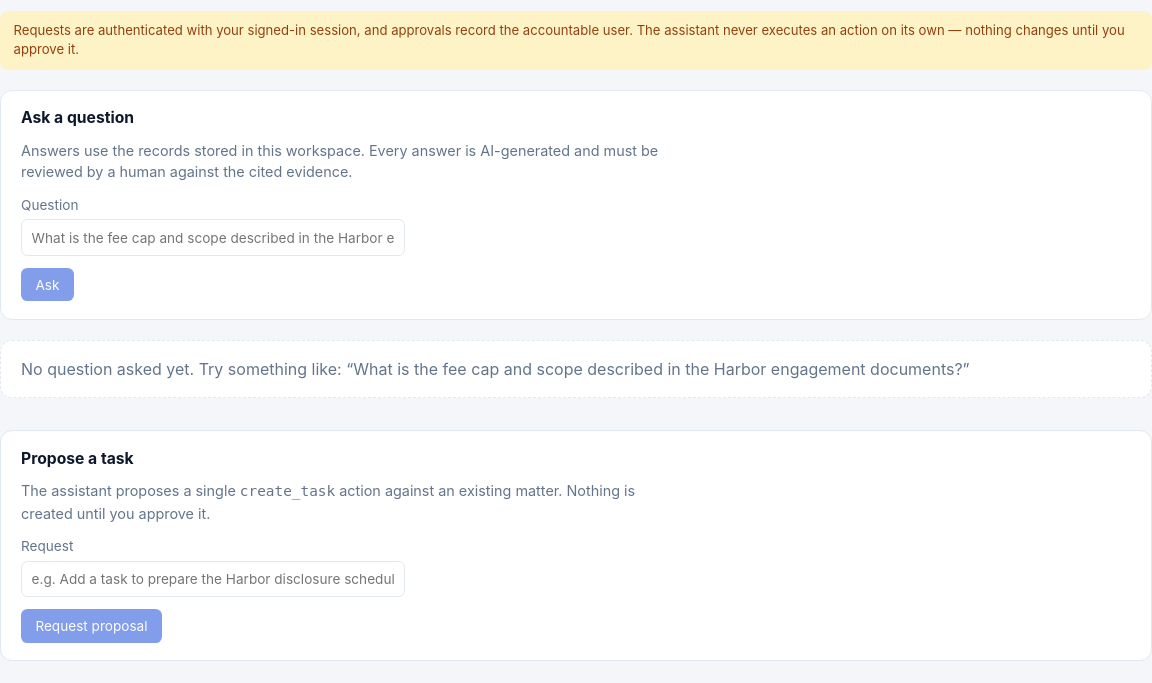
Test: AssistantPage › renders a rejection success
This screenshot has width=1152, height=683.
Step 1. Type "Add a task for Harbor" into the field labelled "Request" → coordinates (213, 579), box x1=21 y1=561 x2=405 y2=598
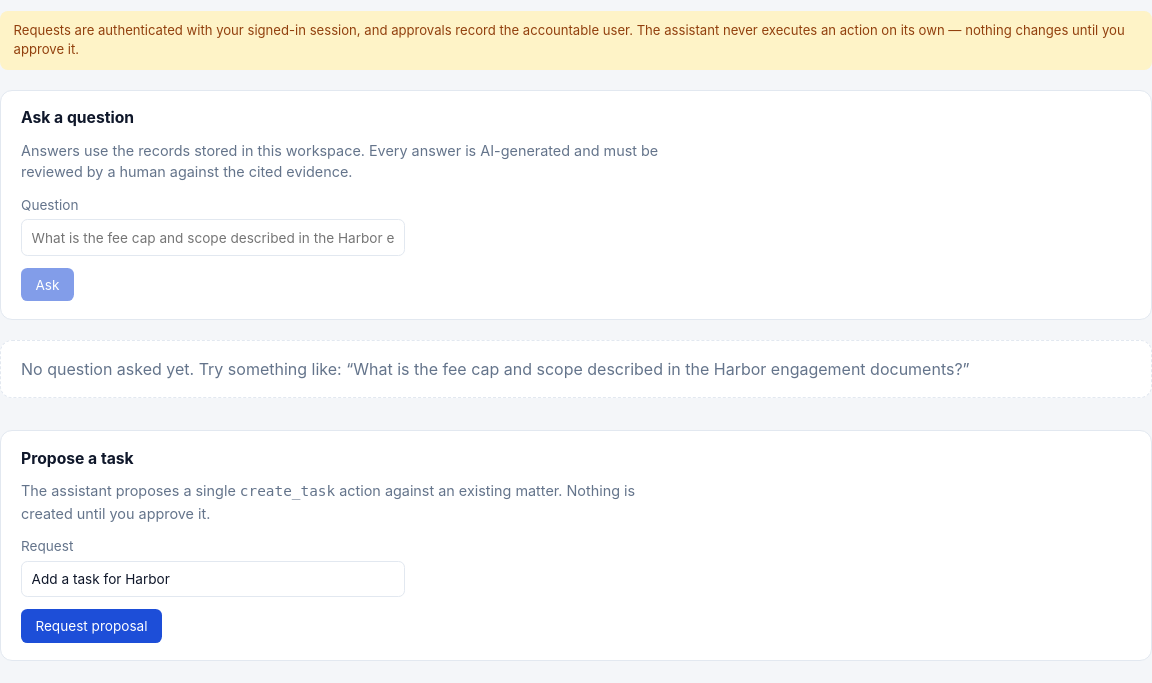
Step 2. Click the button "Request proposal" → coordinates (91, 626), box x1=21 y1=610 x2=162 y2=643
(page scrolled)
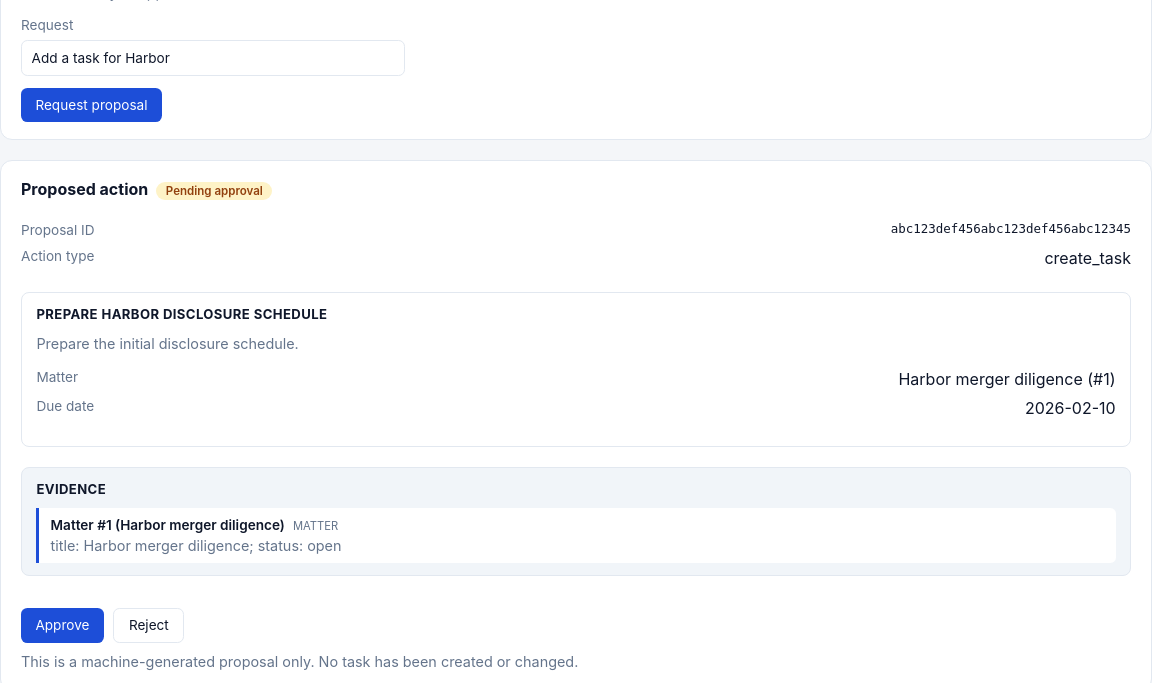
expect the heading "Prepare Harbor disclosure schedule" is shown: met, box x1=36 y1=306 x2=327 y2=322
Step 3. Click the button "Reject" → coordinates (149, 626), box x1=114 y1=608 x2=184 y2=643
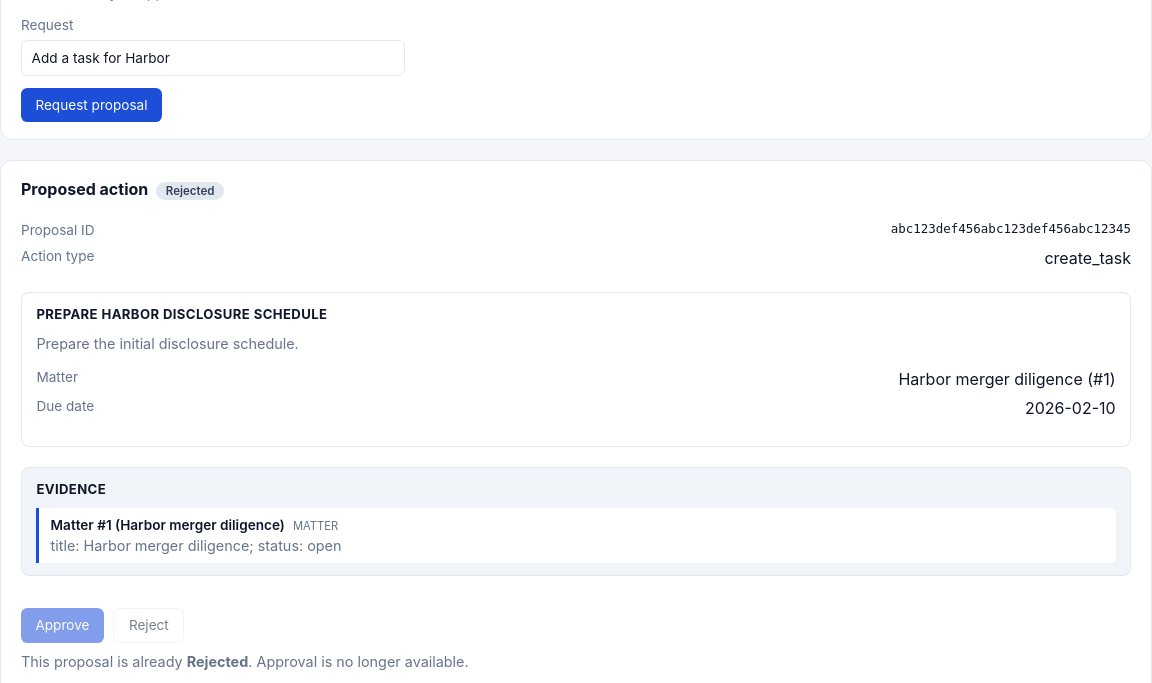
expect the text "This proposal is already Rejected. Approval is no longer available." is shown: met, box x1=21 y1=653 x2=469 y2=670
